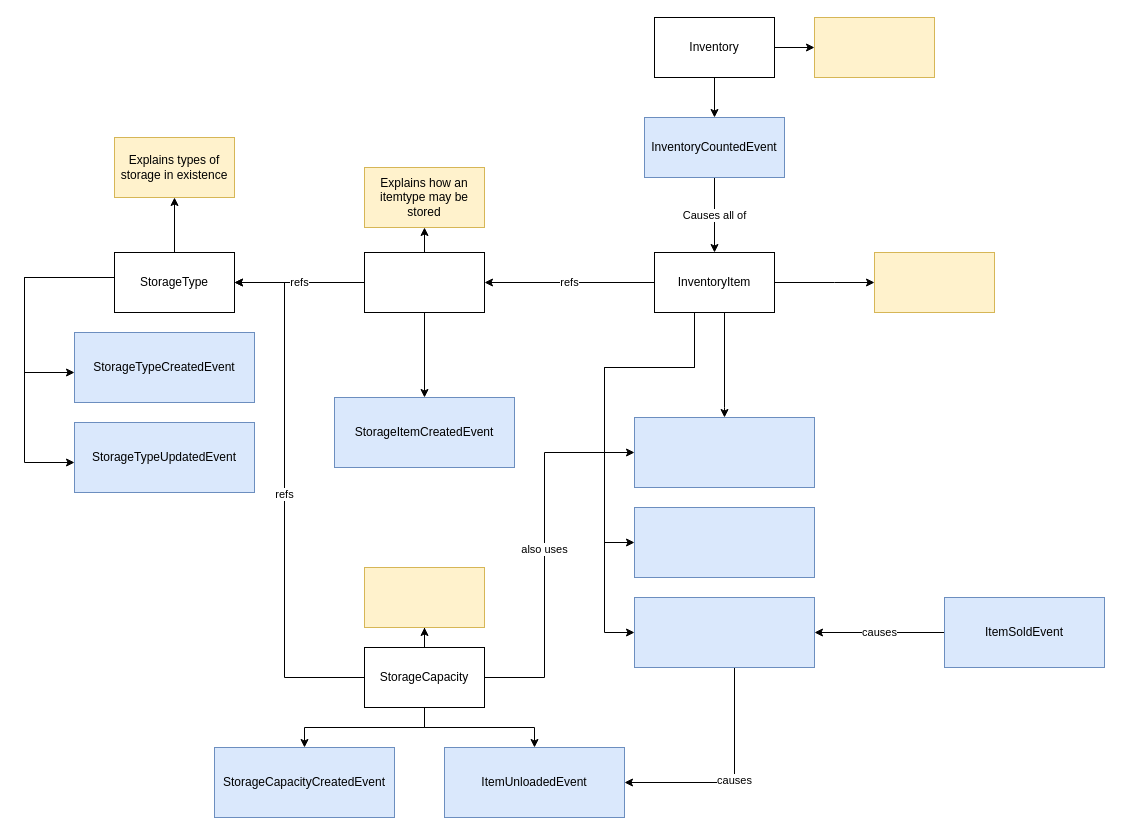
Image size: 1122x835. Some labels were removed from this diagram. The shapes that lost their labels are listed below. From the top down, each one's centre as x and y in pixels, then its label:
(x=874, y=47): Are used to verify the digital count and the "real" count of items
(x=424, y=282): StorageItem
(x=934, y=282): Are stored in the different capacities
(x=724, y=452): InventoryItemStoredEvent
(x=724, y=542): InventoryItemBestBeforeChanged
(x=424, y=597): Allows for type of item storage and stores inventoryitems
(x=724, y=632): InventoryItemDecreasedEvent
